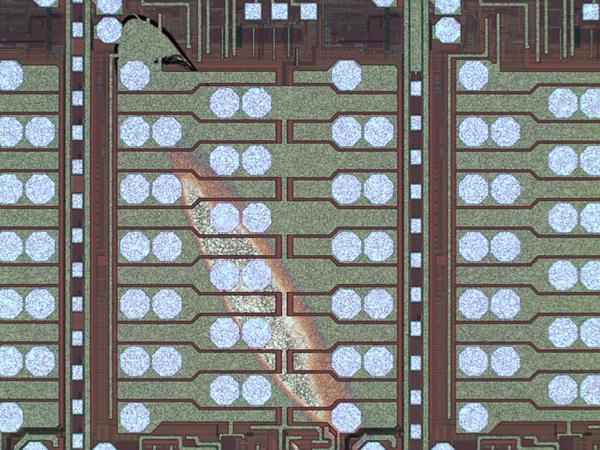COATING BAD: (101, 8, 376, 450)
